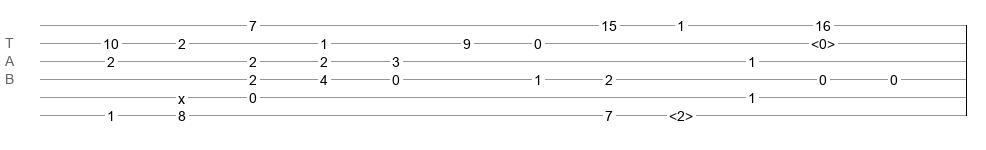0: (249, 90, 257, 100), (392, 72, 400, 82), (534, 36, 542, 46), (819, 72, 827, 82), (890, 72, 898, 82)
1: (107, 108, 115, 118), (320, 36, 328, 46), (534, 72, 542, 82), (677, 18, 685, 28), (748, 54, 756, 64), (748, 90, 756, 100)
10: (103, 36, 119, 46)
15: (601, 18, 617, 28)
16: (815, 18, 831, 28)
2: (107, 54, 115, 64), (178, 36, 186, 46), (249, 54, 257, 64), (249, 72, 257, 82), (320, 54, 328, 64), (605, 72, 613, 82)
3: (392, 54, 400, 64)
4: (320, 72, 328, 82)
7: (249, 18, 257, 28), (605, 108, 613, 118)
8: (178, 108, 186, 118)
9: (463, 36, 471, 46)
harmonic: (669, 108, 693, 118), (811, 36, 835, 46)
x: (178, 91, 185, 99)
